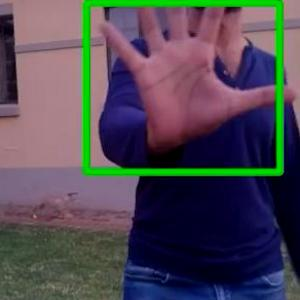follow_hand: (92, 0, 300, 158)
